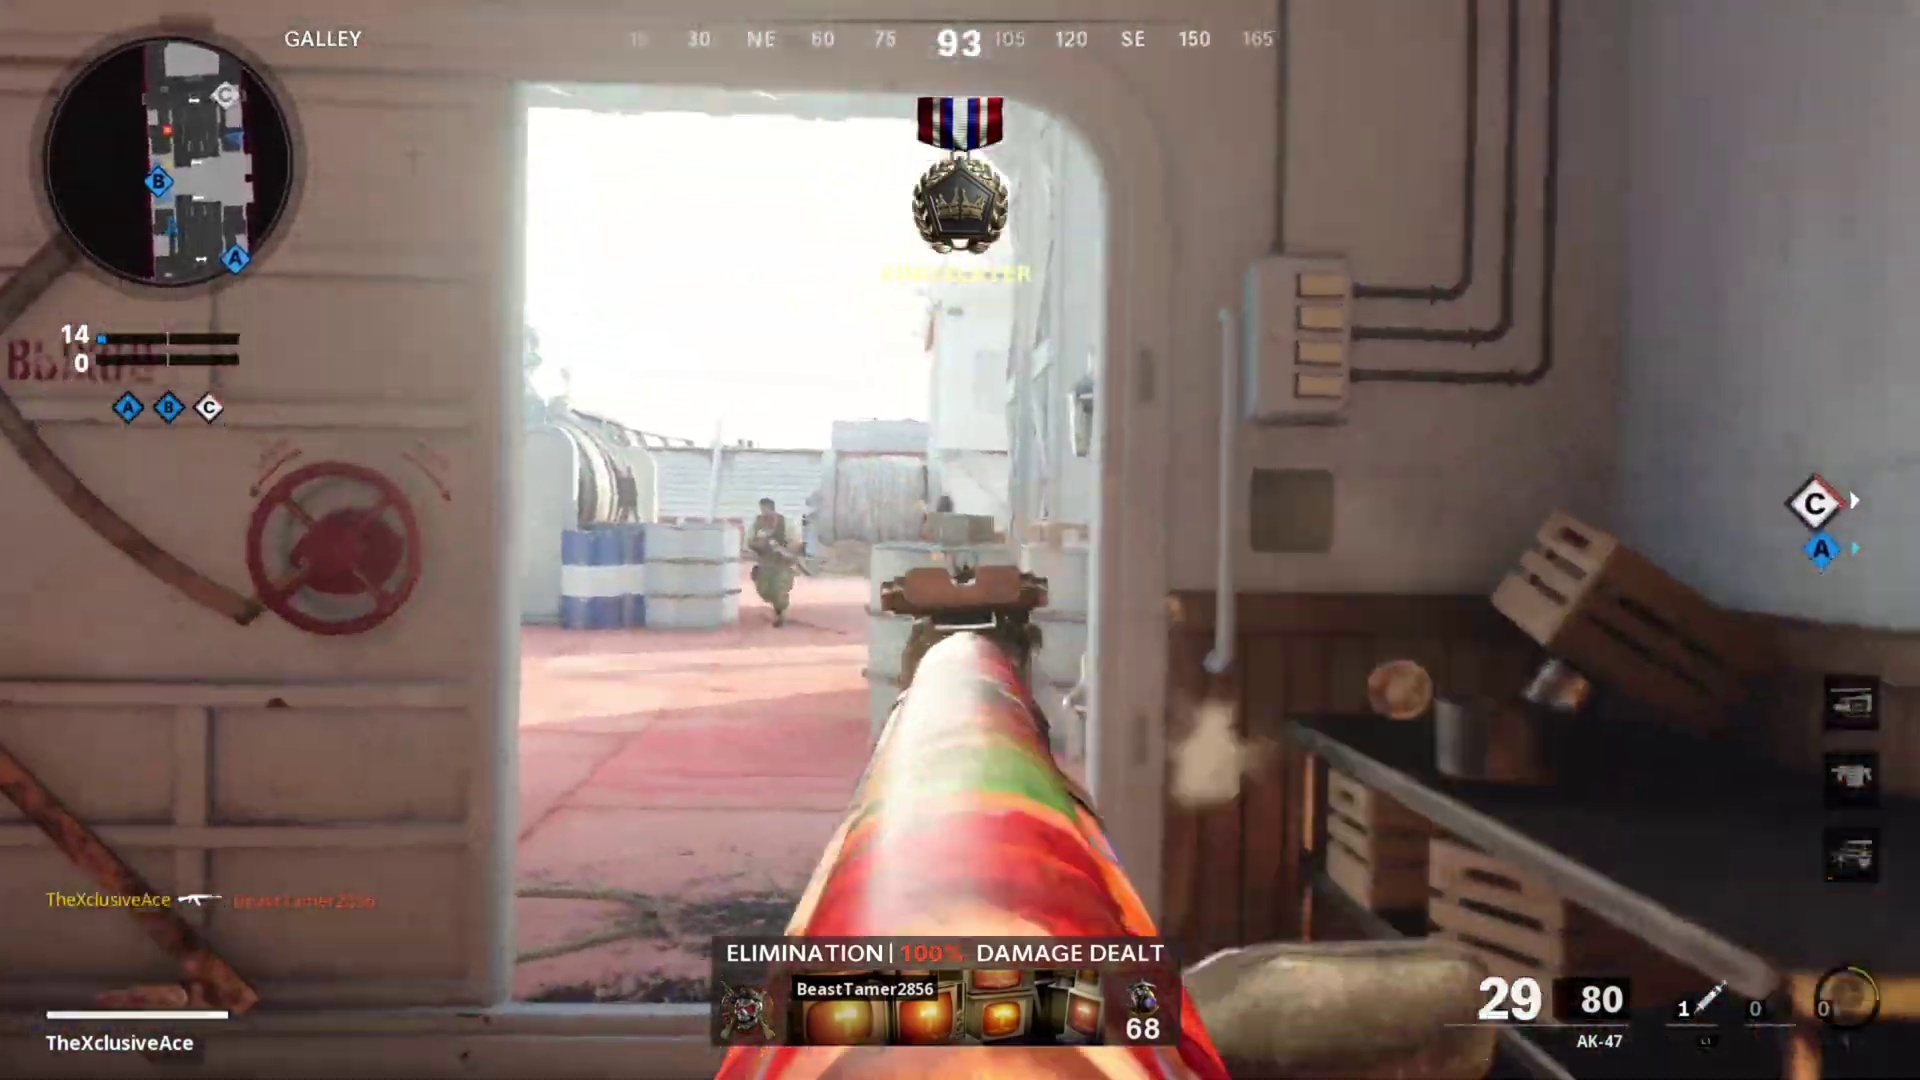head: (752, 494, 781, 529), (926, 493, 957, 518)
person: (745, 495, 808, 624)
